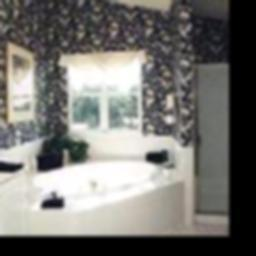Ducha: (188, 58, 227, 216)
